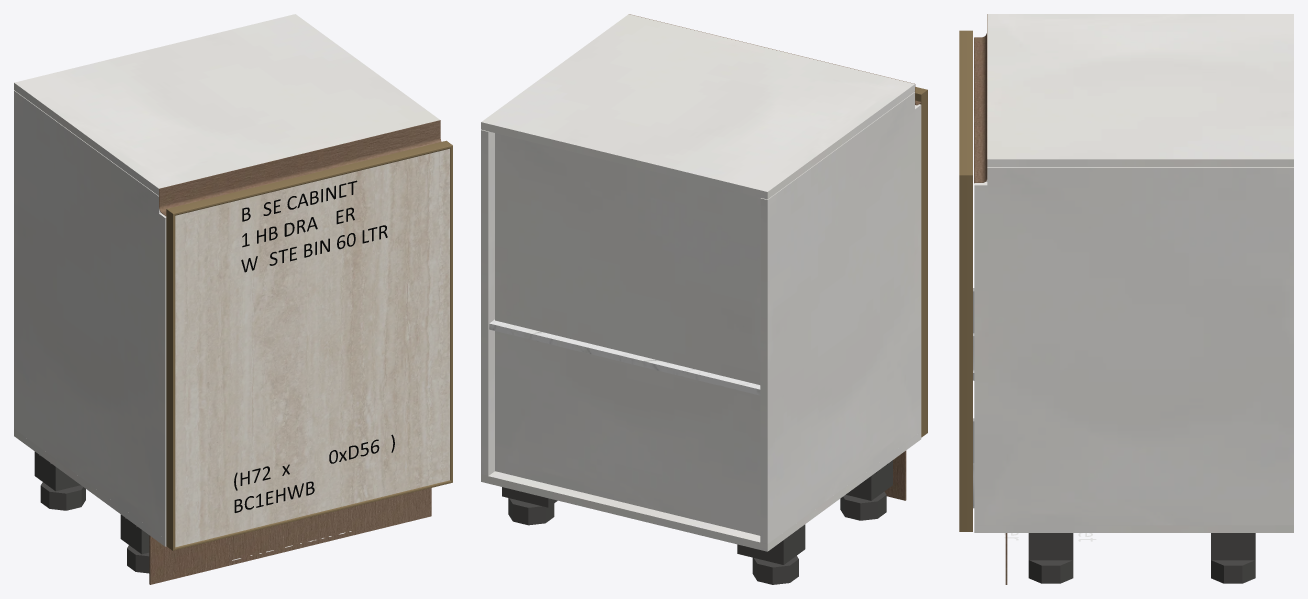
File: BC-AC-CJ-ST-WBP-1HF-XXX-600-720-560-15.glb
3 views of the same model, side by side, from view 1: azimuth 30°, elevation 25°; view 2: azimuth 150°, elevation 25°; view 3: azimuth 270°, elevation 25° (orthographic). The views are drawn at different scales.
Visible parts, largest first — view 1: Object_node_39, TP_node, TP_node_1, Object_node_41, ExtrSplGeo, Extrusion_node_1, Extrusion, 2D text_node, TP, 2D text, Extrusion_node_0, Extrusion_node (+3 smaller); view 2: TP_node_4, TP_node, TP_node_1, TP, TP_node_0, TP_node_5, Extrusion_node_1, Plate, Foot, Foot_node_0, Foot_node, Plate_node_0 (+1 smaller); view 3: TP_node_0, TP_node_1, Extrusion_node, TP, ExtrSplGeo, Extrusion, Plate_node_1, Plate_node, Foot_node_1, Foot_node.
Part boxes in pixels (left/top/right/bottom): Object_node_39: left=175, top=148, right=449, bottom=547; TP_node: left=14, top=90, right=166, bottom=539; TP_node_1: left=14, top=14, right=439, bottom=195; Object_node_41: left=149, top=488, right=431, bottom=584; ExtrSplGeo: left=159, top=120, right=441, bottom=216; Extrusion_node_1: left=166, top=209, right=175, bottom=550; Extrusion: left=167, top=140, right=452, bottom=215; 2D text_node: left=241, top=180, right=387, bottom=272; TP: left=14, top=429, right=166, bottom=546; 2D text: left=234, top=434, right=394, bottom=512; Extrusion_node_0: left=173, top=480, right=452, bottom=550; Extrusion_node: left=450, top=146, right=452, bottom=482; TP_node_4: left=495, top=133, right=760, bottom=535; TP_node: left=760, top=92, right=921, bottom=544; TP_node_1: left=481, top=14, right=914, bottom=199; TP: left=481, top=432, right=921, bottom=551; TP_node_0: left=481, top=130, right=494, bottom=475; TP_node_5: left=489, top=319, right=760, bottom=395; Extrusion_node_1: left=915, top=90, right=927, bottom=437; Plate: left=737, top=524, right=805, bottom=564; Foot: left=752, top=555, right=798, bottom=584; Foot_node_0: left=840, top=491, right=886, bottom=520; Foot_node: left=508, top=498, right=554, bottom=525; Plate_node_0: left=846, top=460, right=892, bottom=500; TP_node_0: left=974, top=167, right=1293, bottom=525; TP_node_1: left=987, top=14, right=1293, bottom=166; Extrusion_node: left=959, top=175, right=972, bottom=531; TP: left=974, top=525, right=1293, bottom=532; ExtrSplGeo: left=974, top=14, right=987, bottom=183; Extrusion: left=959, top=30, right=972, bottom=175; Plate_node_1: left=1028, top=533, right=1073, bottom=560; Plate_node: left=1211, top=533, right=1255, bottom=560; Foot_node_1: left=1028, top=560, right=1073, bottom=583; Foot_node: left=1211, top=560, right=1255, bottom=583.
Size of what is drawn, in the model's own units: 0.6 by 0.82 by 0.5898.
Materials: 9 (4 with a texture image).
